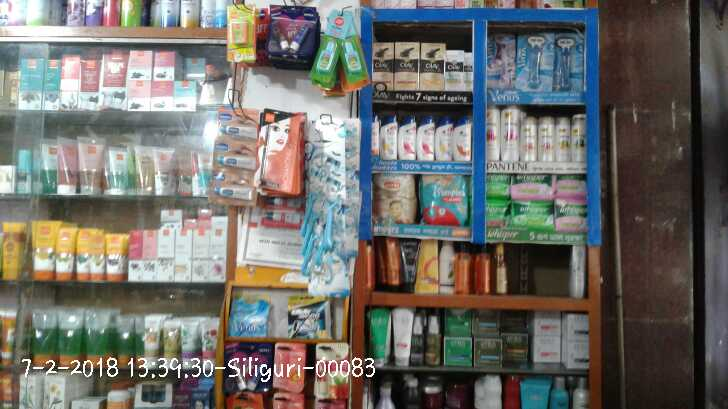gillete: (291, 297, 331, 339)
venus: (303, 118, 359, 296), (552, 34, 585, 91), (519, 36, 552, 91), (487, 36, 519, 89), (231, 301, 269, 338)
